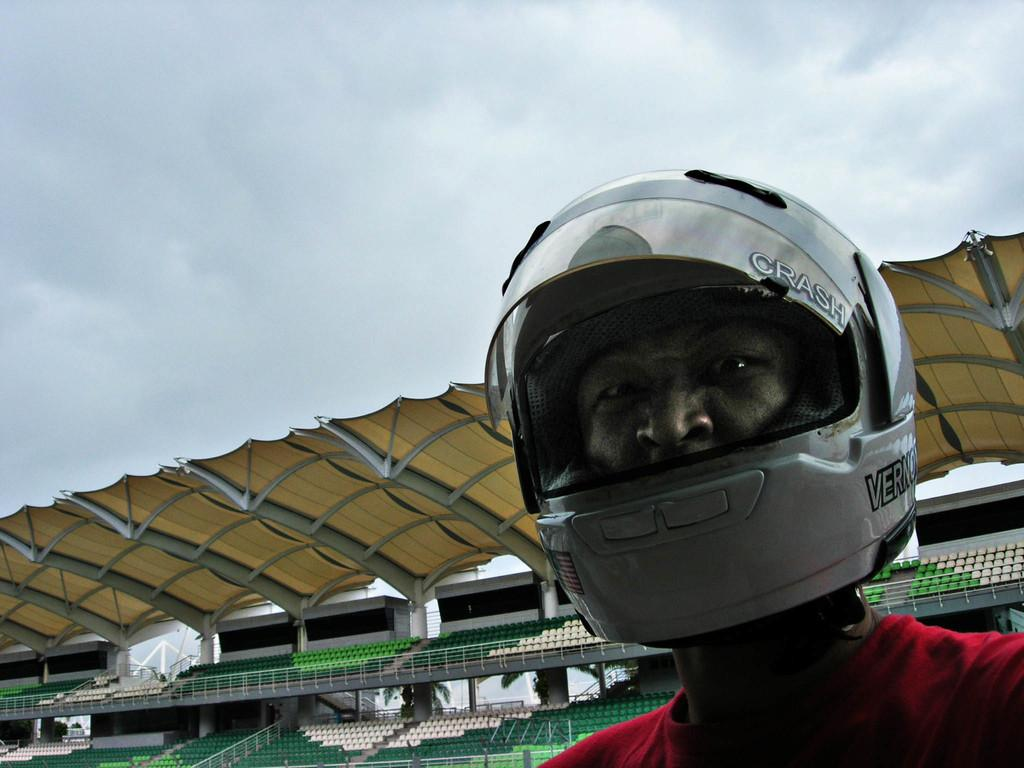helmet: (484, 168, 919, 644)
